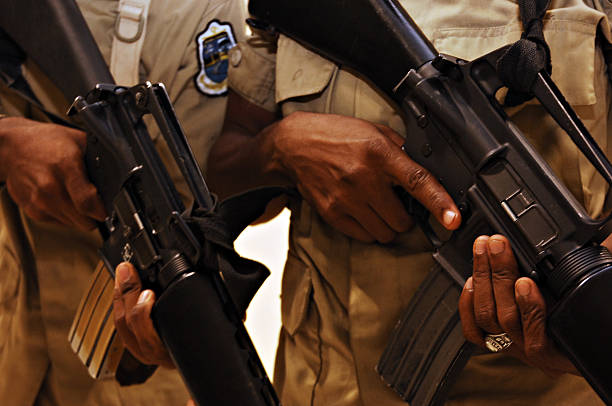rifle: (245, 1, 612, 404), (1, 1, 300, 401)
